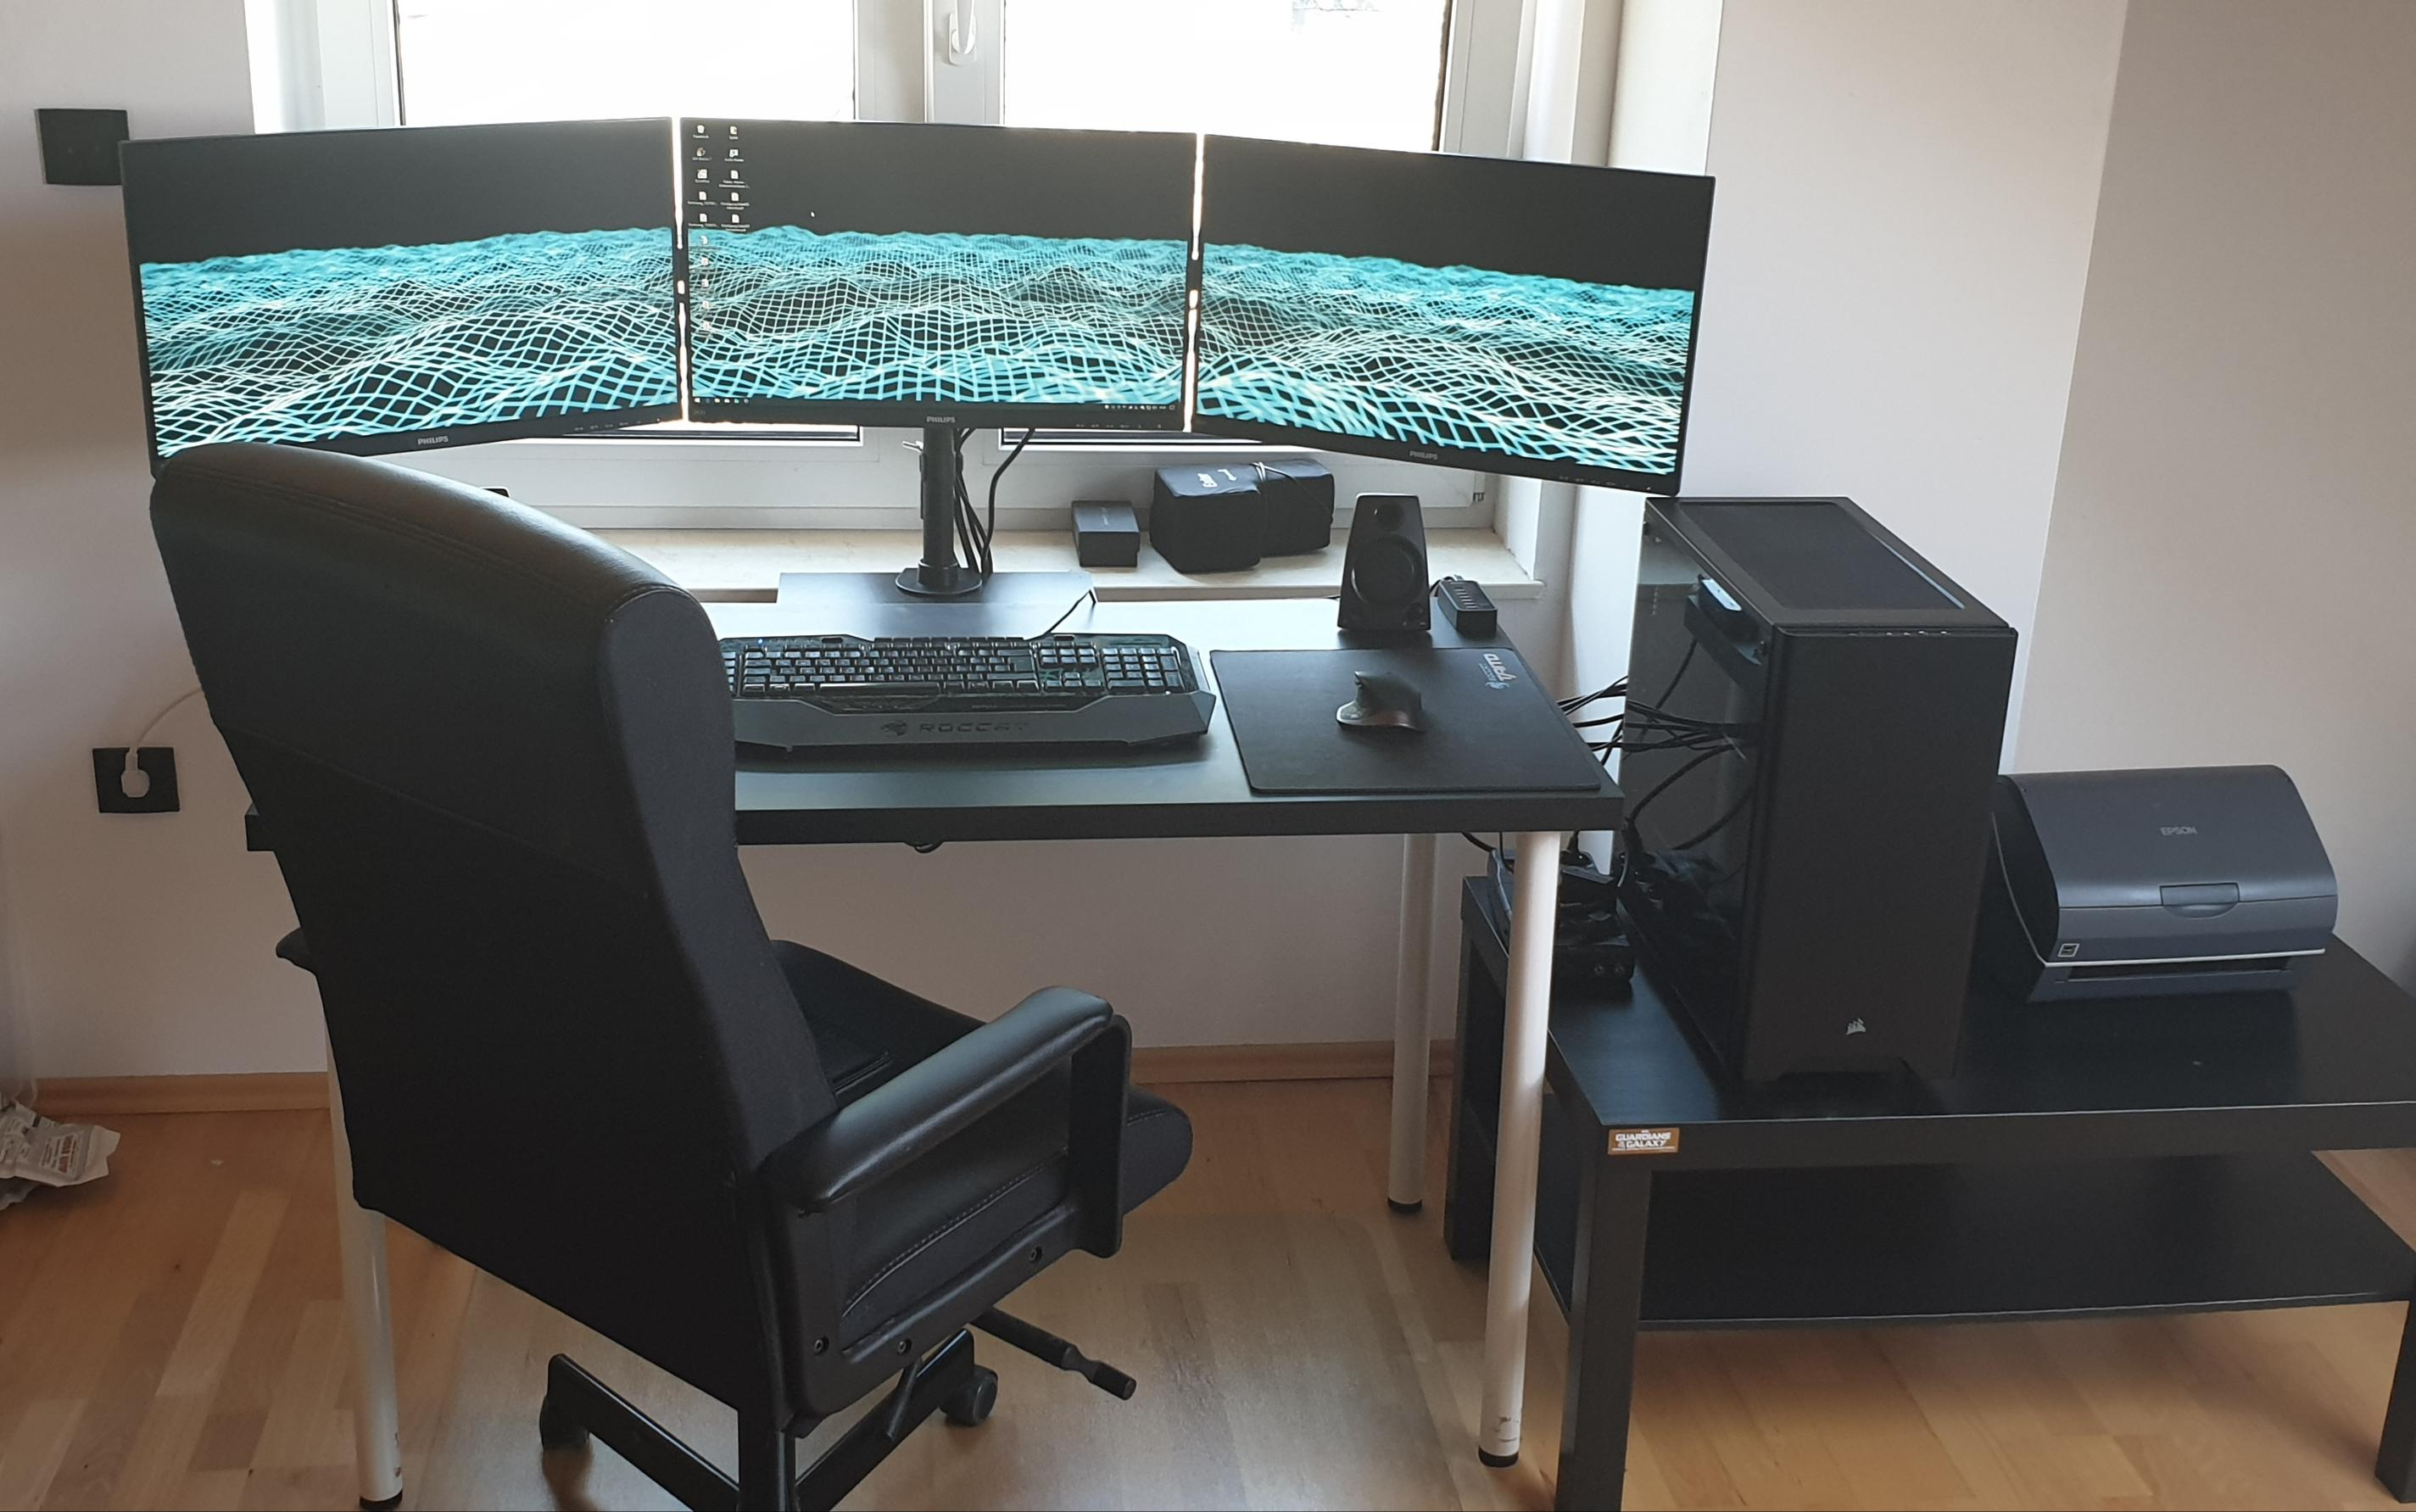Chair (Generic): (143, 442, 1198, 1512)
Desk (Generic): (242, 604, 1623, 1512)
Desktop (Windows): (1592, 474, 2026, 1115)
External Speakers (Generic): (1319, 470, 1446, 664)
Keyboard (Gaming): (695, 617, 1218, 782)
Monitor (Landscape): (110, 108, 698, 472), (1191, 115, 1716, 498), (681, 94, 1195, 455)
Mouse (Gaming): (1331, 655, 1428, 759)
Mousepad (Generic): (1212, 620, 1613, 822)
Printer: (1933, 747, 2367, 1019)
